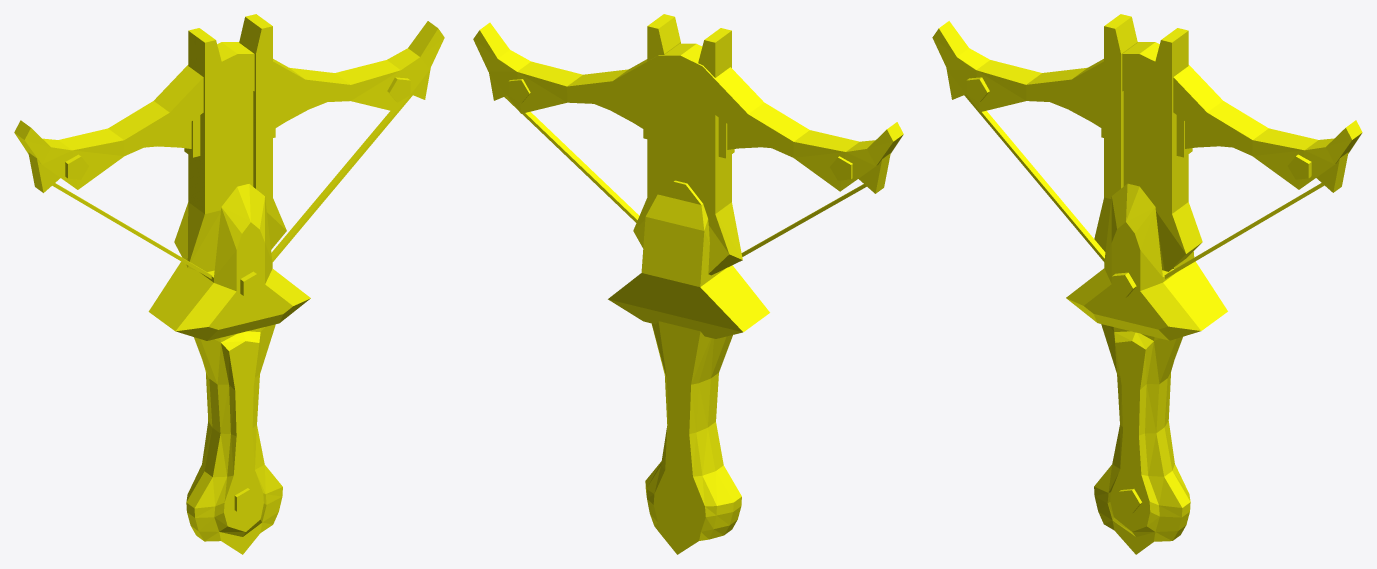
The model's file is _crossbow_22.glb.
3 renders of one model, left to right at view 1: azimuth 30°, elevation 25°; view 2: azimuth 150°, elevation 25°; view 3: azimuth 330°, elevation 25°, orthographic.
Visible parts, largest first — view 1: crossbow_22; view 2: crossbow_22; view 3: crossbow_22.
Part boxes in pixels (left/top/right/bottom): crossbow_22: left=14, top=14, right=444, bottom=554; crossbow_22: left=473, top=14, right=903, bottom=554; crossbow_22: left=932, top=14, right=1362, bottom=554.
Bounding box in the file's own units: 0.5836 × 0.6882 × 0.1025.
1 material, 1 textured.
